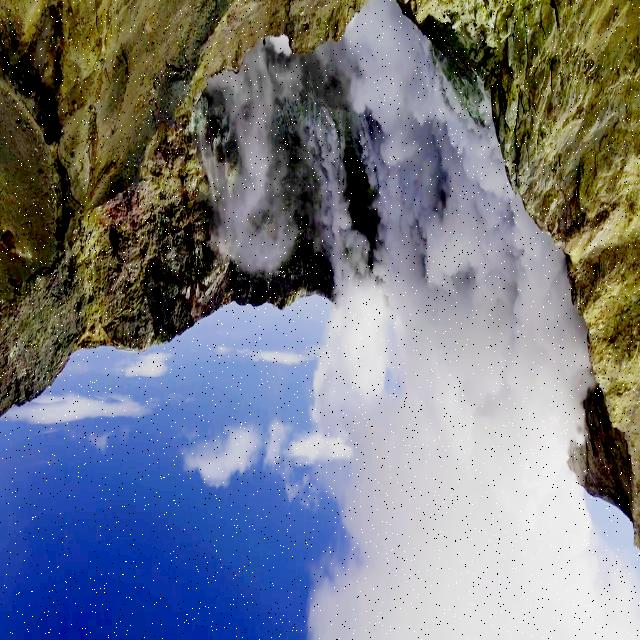asap: (335, 1, 611, 635), (331, 4, 481, 570), (453, 145, 605, 547), (405, 55, 531, 464), (298, 94, 396, 470), (201, 31, 303, 301)
